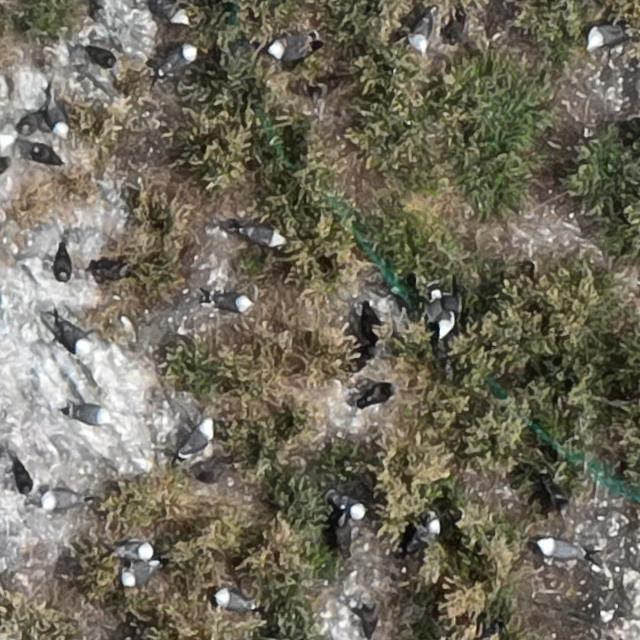umineko: (55, 318, 88, 354), (269, 38, 312, 61), (160, 45, 194, 72), (184, 422, 212, 454), (432, 295, 453, 337), (410, 520, 438, 550), (539, 540, 579, 560), (244, 226, 282, 246), (70, 405, 110, 424), (122, 565, 156, 586), (409, 16, 430, 48), (44, 492, 79, 511), (218, 590, 250, 610), (84, 46, 116, 66), (587, 27, 618, 47), (116, 543, 152, 560), (49, 104, 68, 136), (218, 294, 248, 311), (343, 499, 364, 522), (56, 250, 71, 278)
